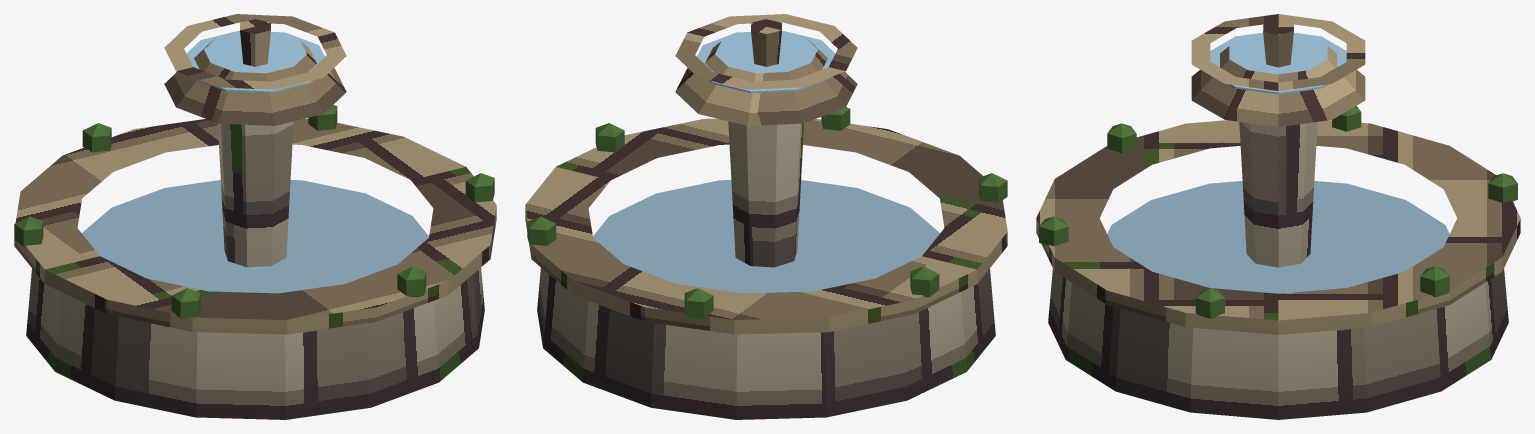
The model's file is fountain.glb.
3 views of the same model, side by side, from view 1: azimuth 30°, elevation 25°; view 2: azimuth 150°, elevation 25°; view 3: azimuth 270°, elevation 25° (orthographic).
Visible parts, largest first — view 1: fountain; view 2: fountain; view 3: fountain.
Boxes of the visible parts, left/top/right/bottom form: fountain: left=14, top=14, right=496, bottom=419; fountain: left=525, top=14, right=1007, bottom=419; fountain: left=1036, top=14, right=1520, bottom=419.
Size of the model in its own units: 2.44 by 1.64 by 2.44.
2 materials, 1 textured.
